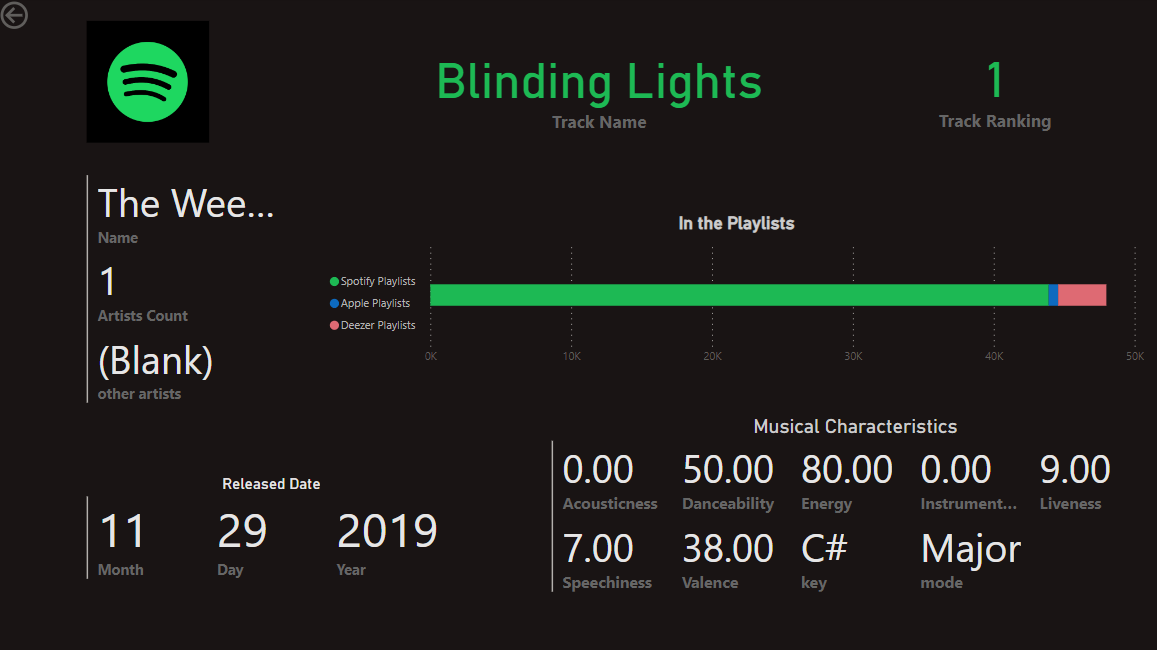

The page's visual inventory and layout, read from the dashboard file:
{"tool":"powerbi","page":{"name":"Track Information","canvas":[1280,720],"ordinal":3},"visuals":[{"type":"image","box":[94.6,20.6,144,145.3],"z":0},{"type":"multiRowCard","title":"Musical Characteristics","fields":{"Values":["Avg(spotify-2023.acousticness_%)","Avg(spotify-2023.danceability_%)","Avg(spotify-2023.energy_%)","Avg(spotify-2023.instrumentalness_%)","Avg(spotify-2023.liveness_%)","Avg(spotify-2023.speechiness_%)","Avg(spotify-2023.valence_%)","spotify-2023.key","spotify-2023.mode"]},"box":[604.6,457.9,675.9,227.6],"z":1000},{"type":"actionButton","box":[0,0,100,40],"z":2000},{"type":"barChart","title":"In the Playlists","fields":{"Y":["Sum(spotify-2023.in_spotify_playlists)","Sum(spotify-2023.in_apple_playlists)","Sum(spotify-2023.in_deezer_playlists)"]},"box":[360.6,237.2,903.5,175.5],"z":3000},{"type":"multiRowCard","title":"Released Date","fields":{"Values":["Sum(spotify-2023.released_month)","Sum(spotify-2023.released_day)","Sum(spotify-2023.released_year)"]},"box":[94.1,523.4,414.9,139.9],"z":4000},{"type":"card","fields":{"Values":["Min(spotify-2023.track_name)"]},"box":[323.2,22.9,676.6,148.3],"z":5000},{"type":"card","fields":{"Values":["Sum(spotify-2023.Track Ranking)"]},"box":[964.8,20.5,261.7,150.8],"z":6000},{"type":"multiRowCard","fields":{"Values":["spotify-2023.artist(s)_name","Sum(spotify-2023.artist_count)","spotify-2023.other artist"]},"box":[94.6,190.6,229,294.8],"z":7000}]}

Visuals, with their boxes in screenshot pixels (x1, y1, x2, y2), scaled from the page's 1280x720 canvas onto the 1157x650 screenshot:
image: 86, 19, 216, 150
"Musical Characteristics" multiRowCard: 547, 413, 1156, 619
actionButton: 0, 0, 90, 36
"In the Playlists" barChart: 326, 214, 1143, 373
"Released Date" multiRowCard: 85, 473, 460, 599
card - Min(spotify-2023.track_name): 292, 21, 904, 155
card - Sum(spotify-2023.Track Ranking): 872, 19, 1109, 155
multiRowCard - spotify-2023.artist(s)_name x Sum(spotify-2023.artist_count): 86, 172, 293, 438
